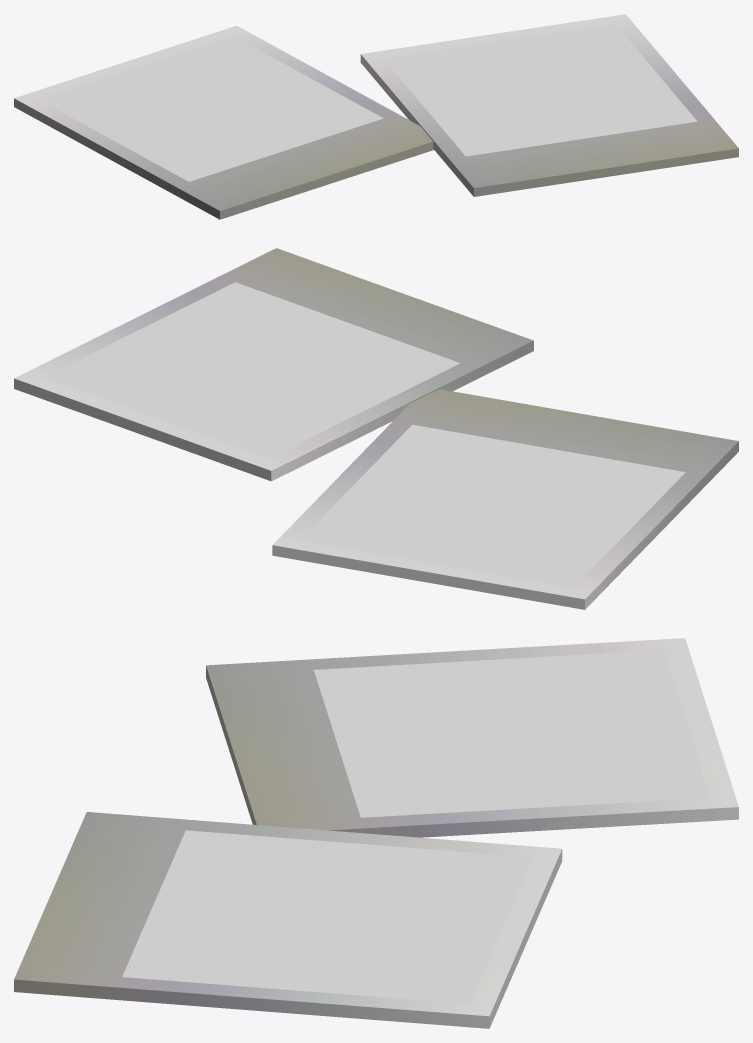
Rendered from Photograph Pair Real.fbx.
3 views of the same model, one above another, from view 1: azimuth 30°, elevation 25°; view 2: azimuth 150°, elevation 25°; view 3: azimuth 270°, elevation 25° (orthographic). The views are drawn at different scales.
Visible parts, largest first — view 1: Photograph Pair; view 2: Photograph Pair; view 3: Photograph Pair.
Part boxes in pixels (x1,y1,x2,y2): Photograph Pair: (14,14,738,219); Photograph Pair: (14,248,738,609); Photograph Pair: (14,638,738,1028).
Size of the model in its own units: 34.98 by 0.6255 by 28.18.
